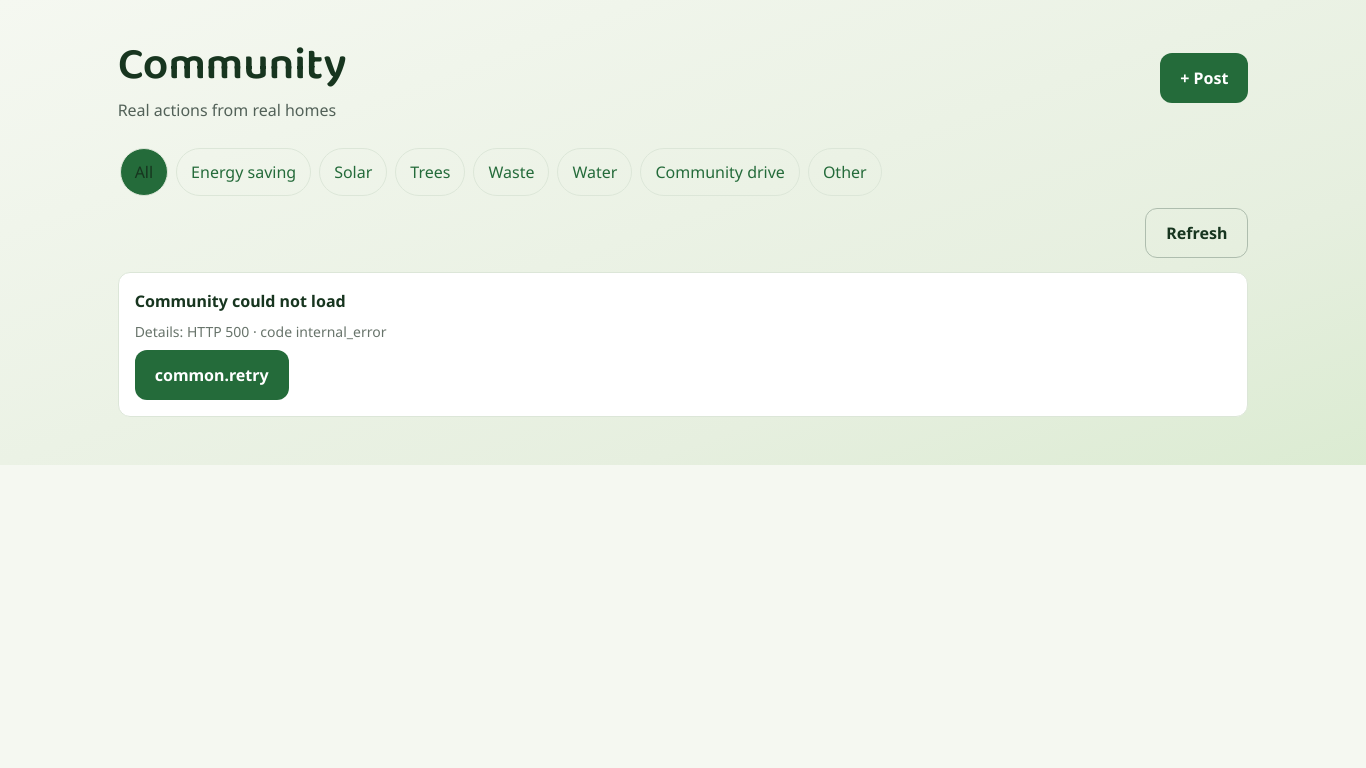
Test case: Community feed — loading/error transitions › shows error state then recovers on retry
Expected: the text "Community could not load" is shown, [135,289,346,313]
Click the button "common.retry".
click(212, 375)  # box [135,350,289,400]
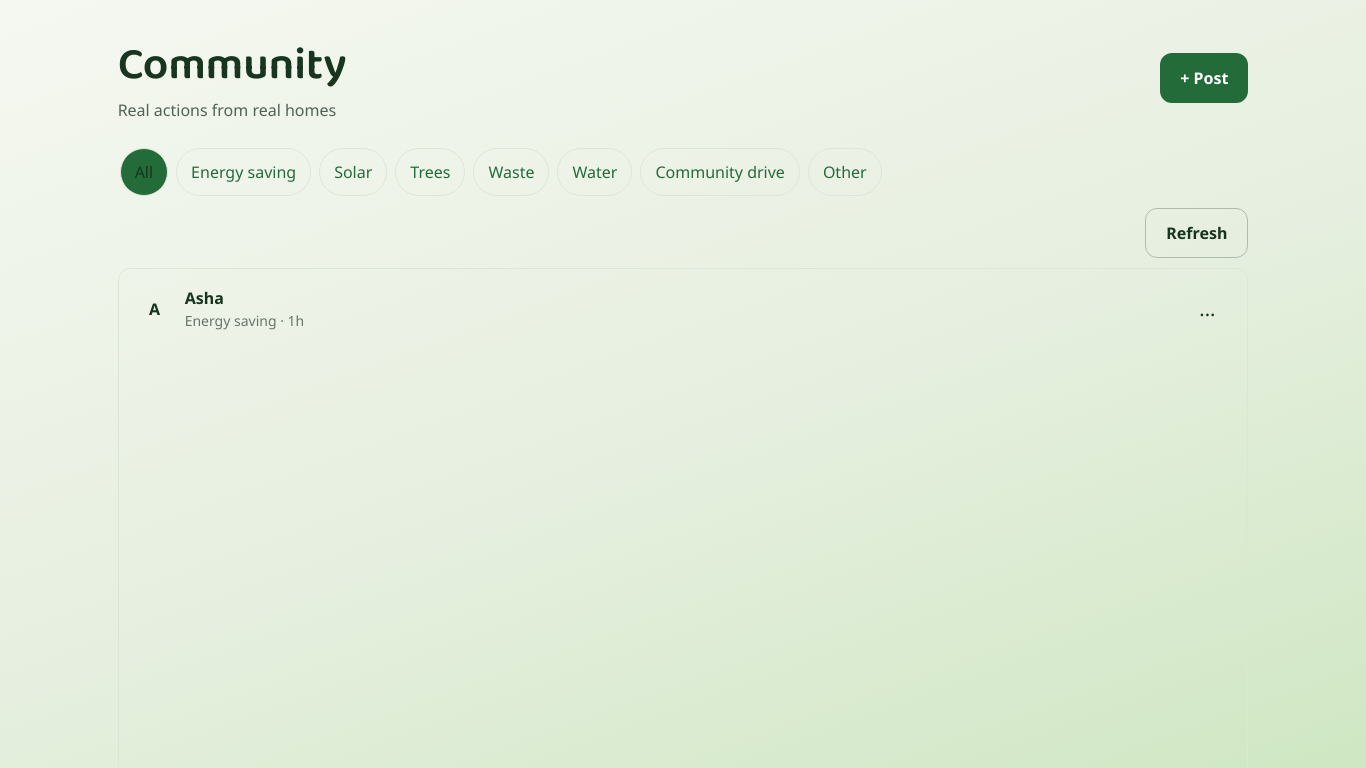
Result: the text "Asha" is shown at [185,287,224,309]
